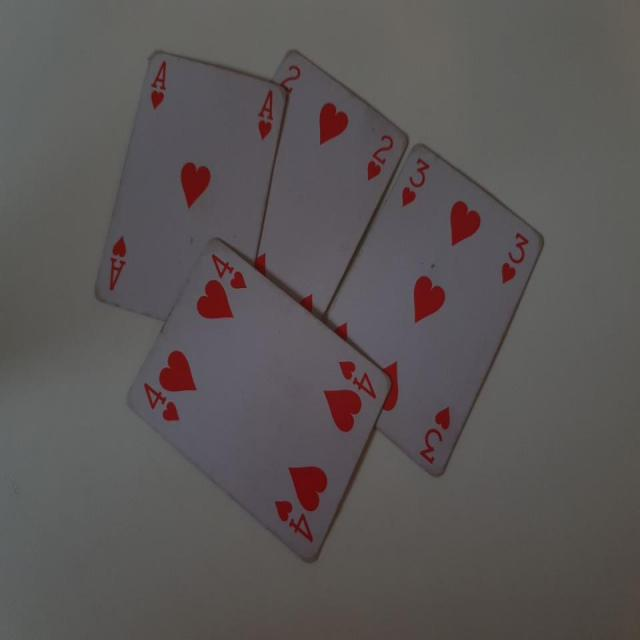2 Hearts: (241, 44, 408, 320)
3 Hearts: (316, 138, 554, 492)
4 Hearts: (124, 238, 399, 572)
A Hearts: (86, 50, 287, 341)
